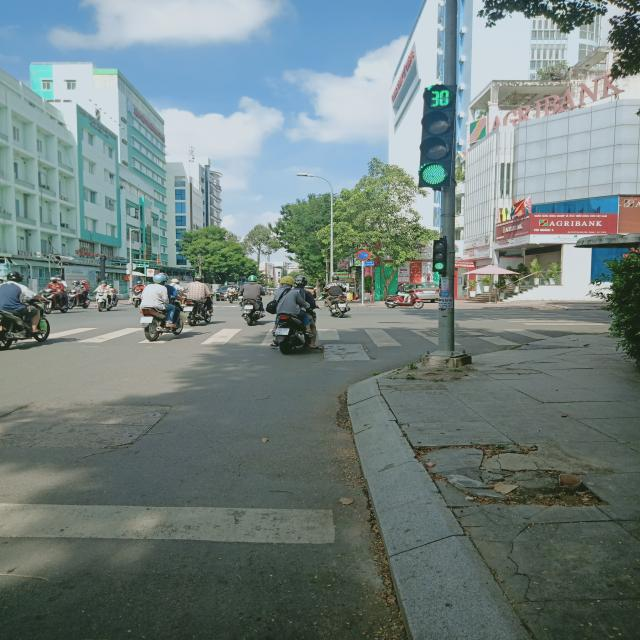Green: (414, 114, 455, 189), (426, 235, 452, 277)
